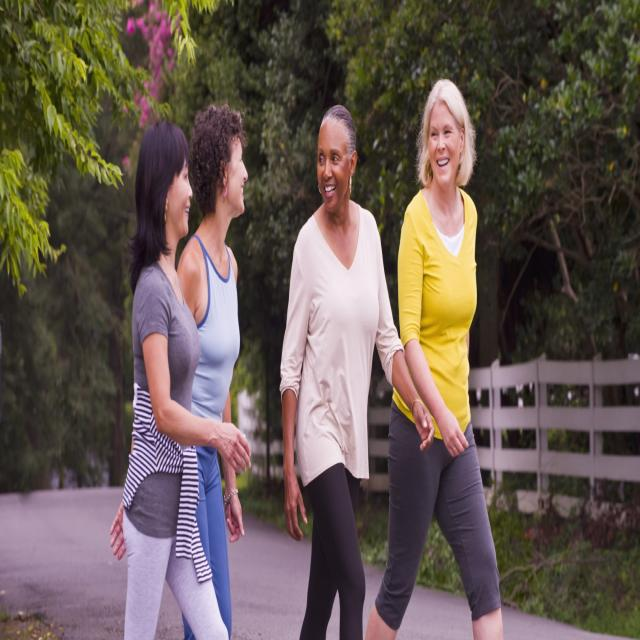body: (276, 98, 439, 640), (363, 78, 508, 638), (106, 116, 252, 640), (176, 103, 250, 640)
